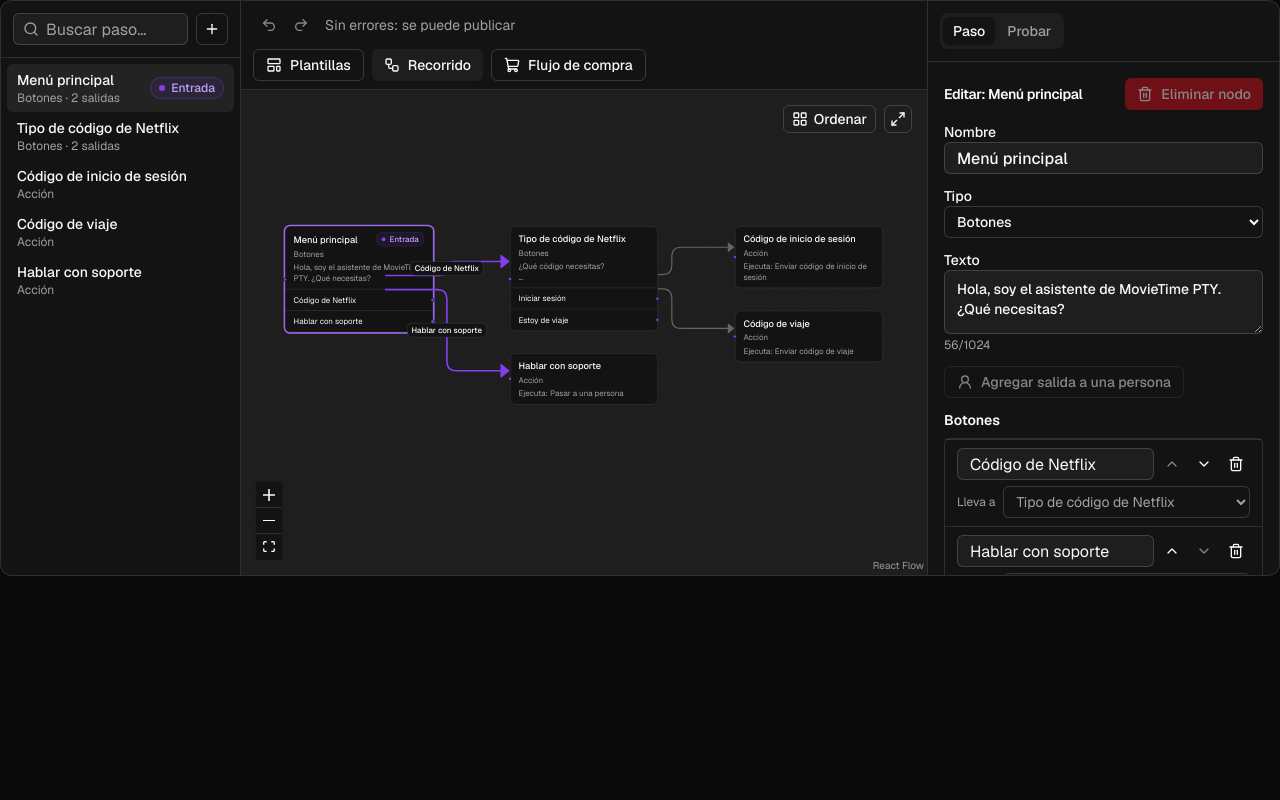
Test: estudio del recorrido: edición de pasos › permite editar la confirmación al seleccionar crear reporte y la conserva al cambiar de paso
Click the button "Hablar con soporte Acción": coordinates (120, 280) [7, 256, 234, 304]
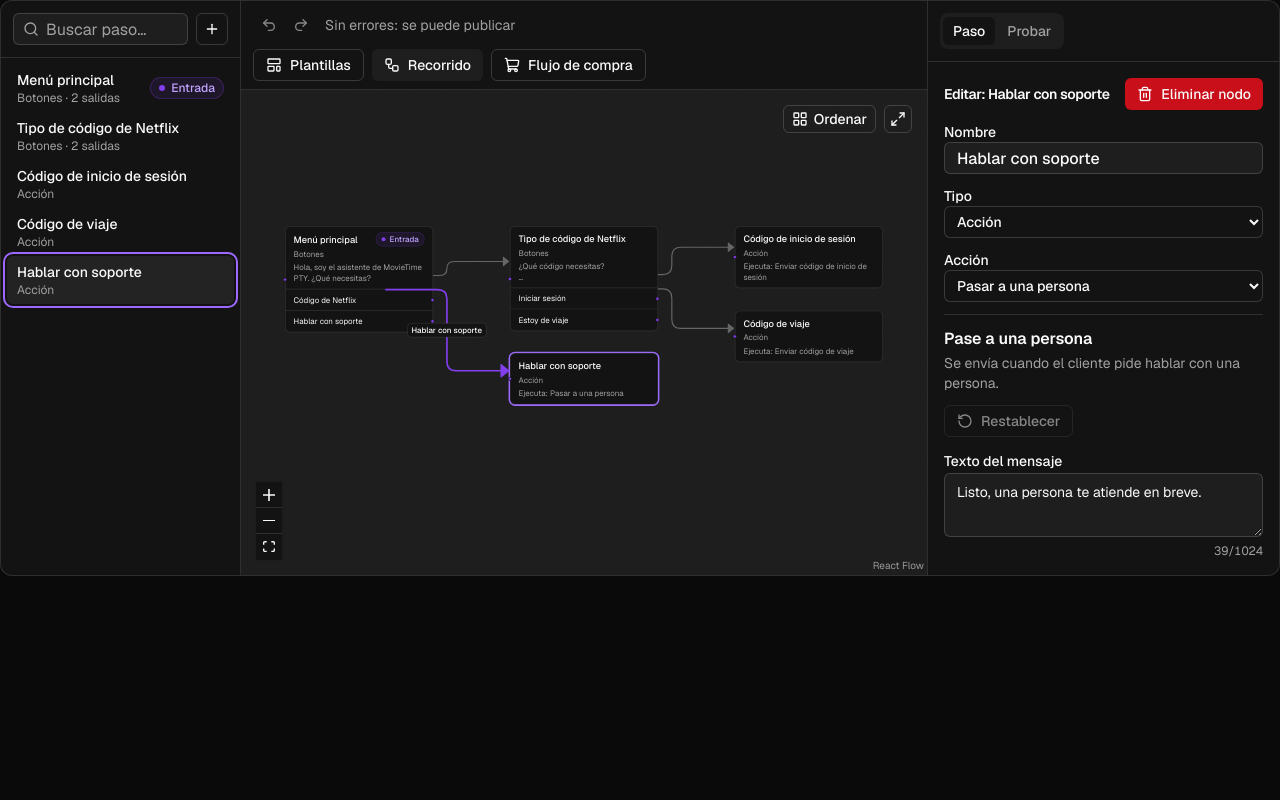
Select "Crear reporte de problema" in the dropdown labelled "Acción": coordinates (1104, 286) [944, 270, 1263, 302]
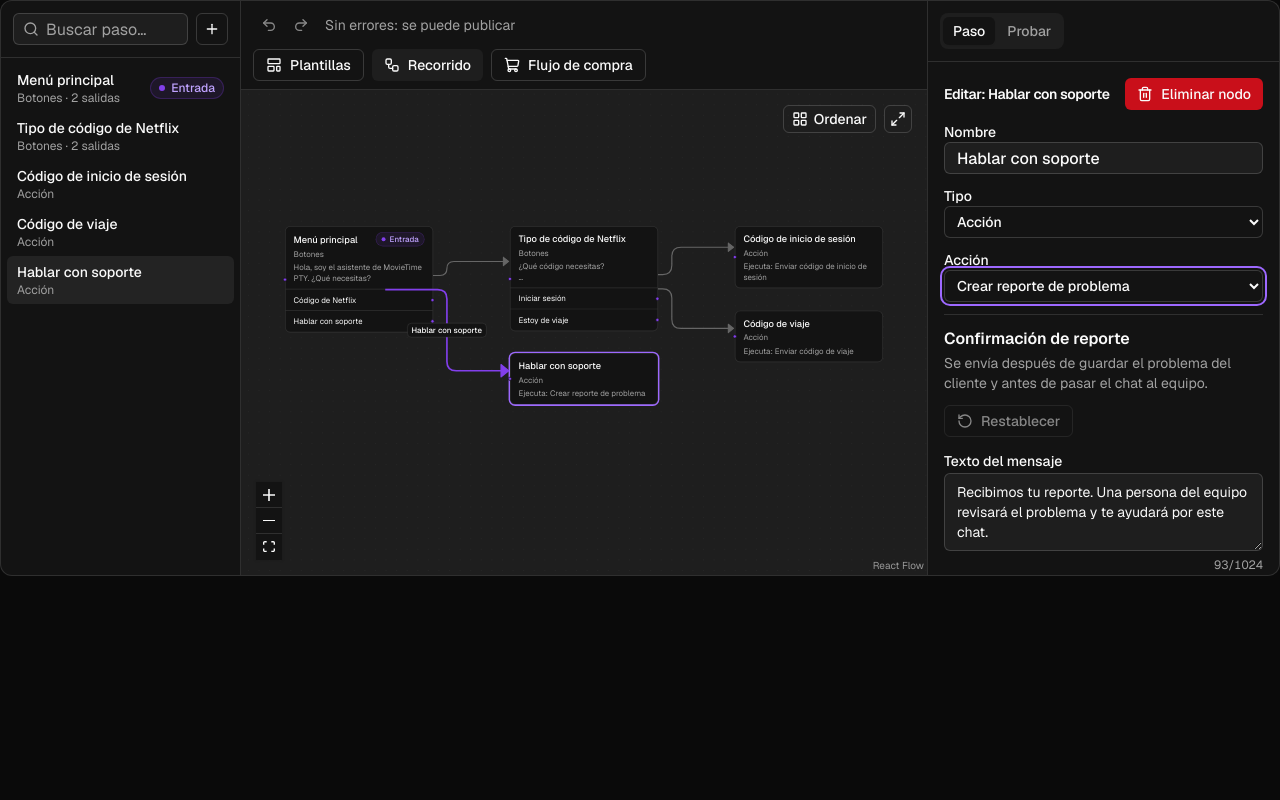
Clear the text box labelled "Texto del mensaje": coordinates (1104, 512) [944, 473, 1263, 551]
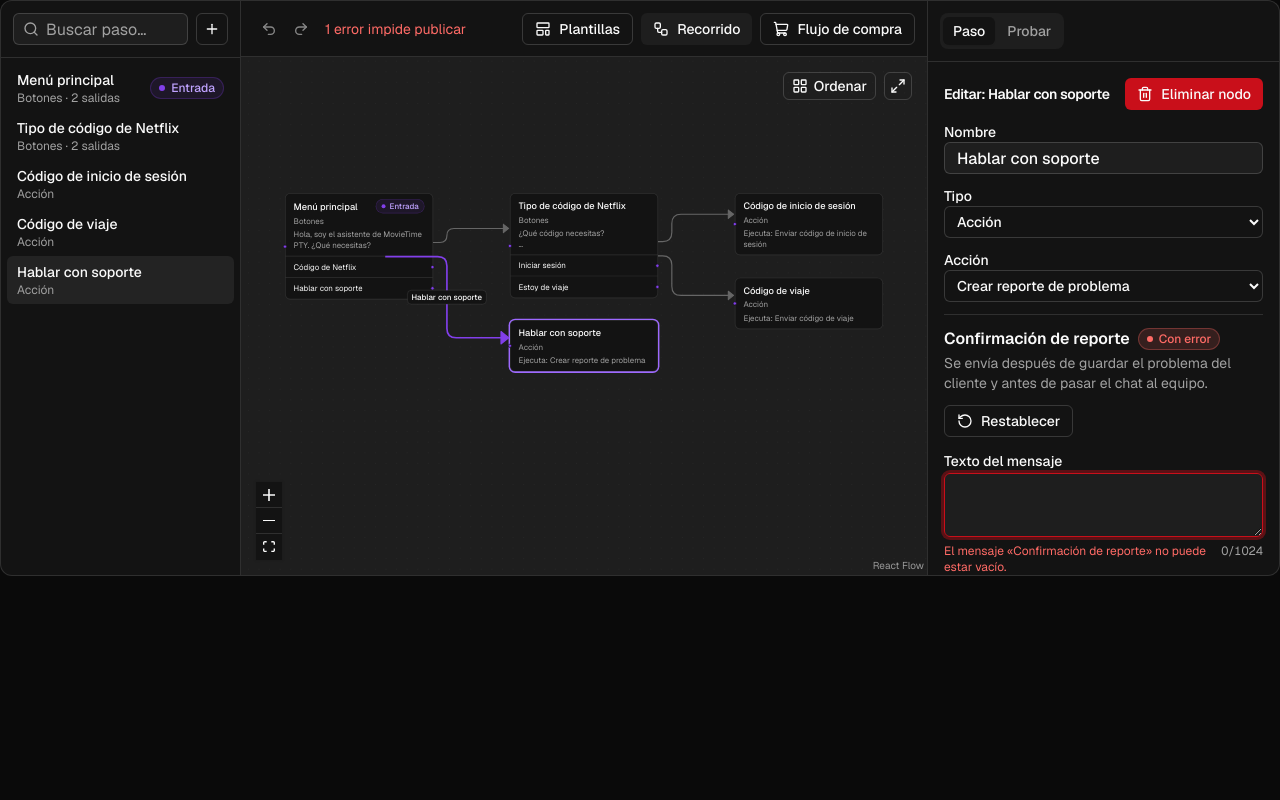
In the text box labelled "Texto del mensaje": coordinates (1104, 505) [944, 473, 1263, 537], type "Gracias, revisaremos tu reporte."
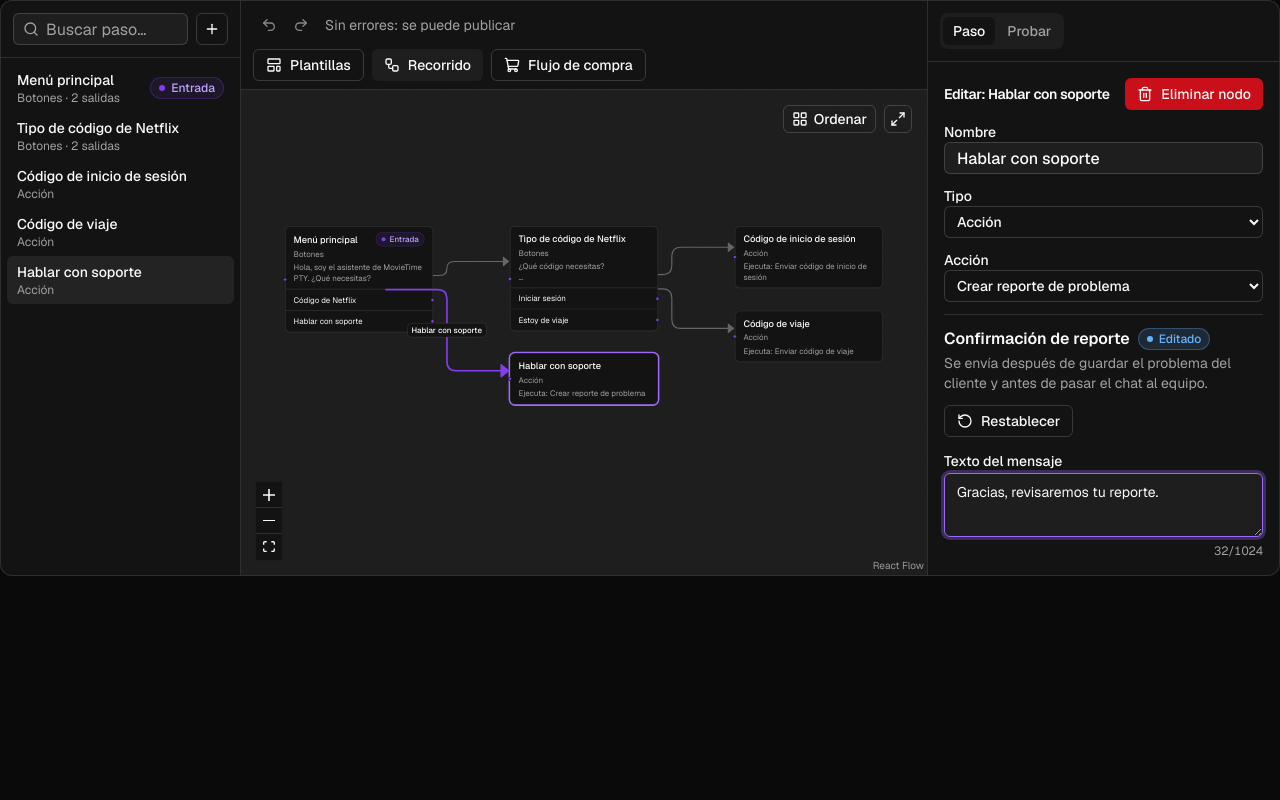
Click the button "Menú principal Botones · 2 salidas Entrada": coordinates (120, 88) [7, 64, 234, 112]
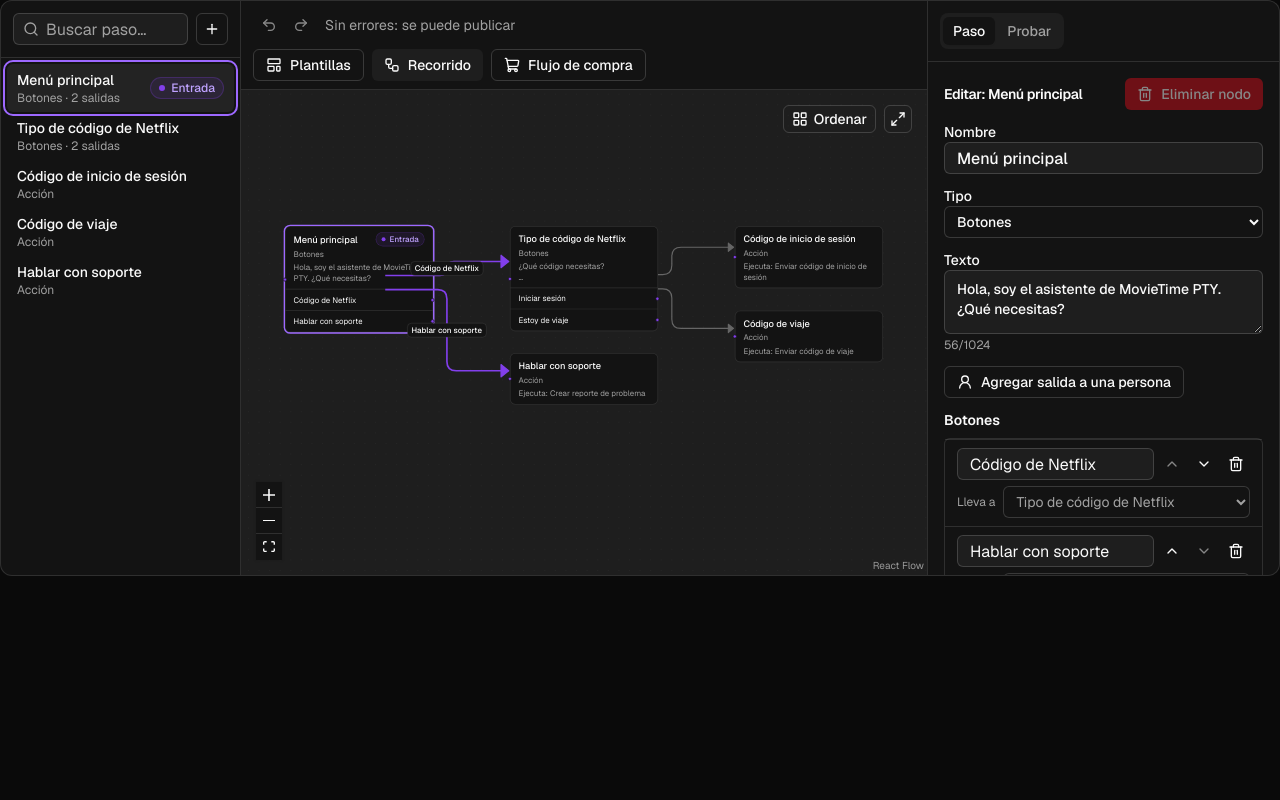
Click the button "Hablar con soporte Acción": coordinates (120, 280) [7, 256, 234, 304]
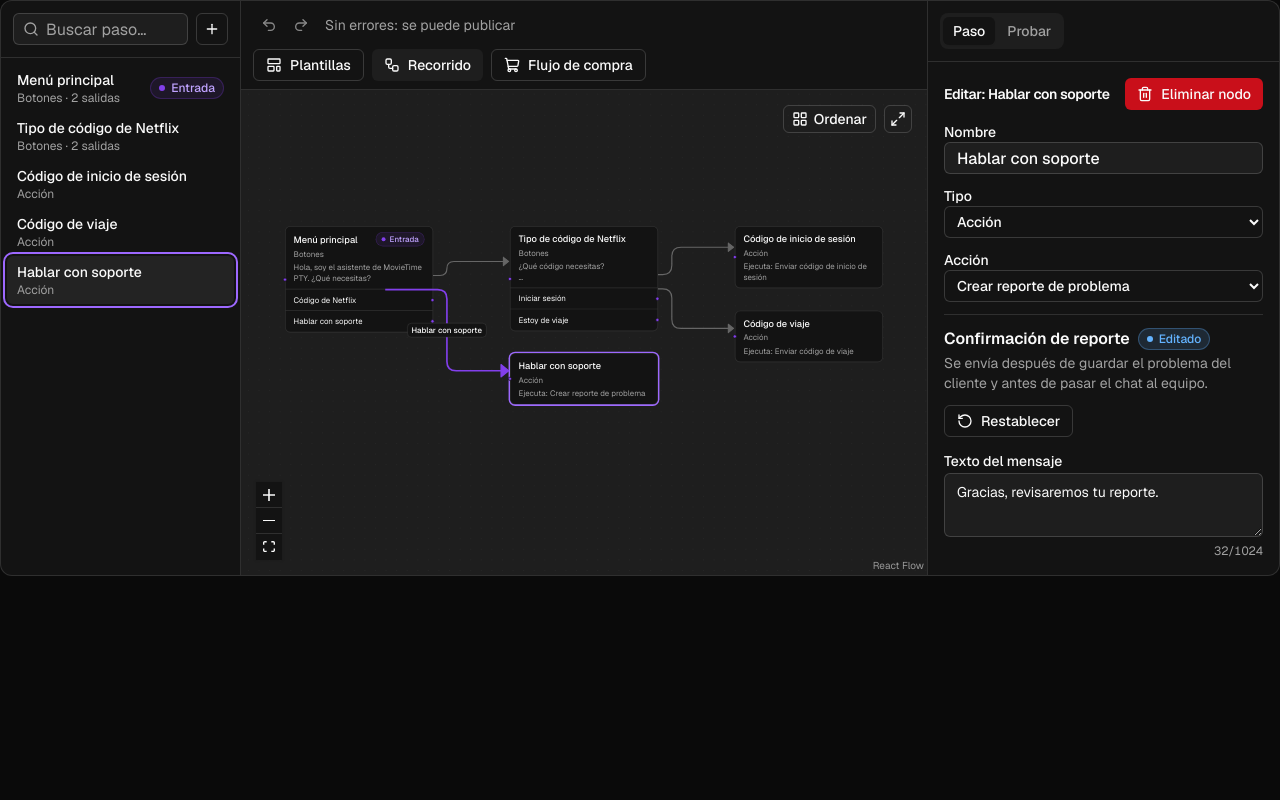
Check: the text box labelled "Texto del mensaje" holds "Gracias, revisaremos tu reporte.", box [944, 473, 1263, 537]
